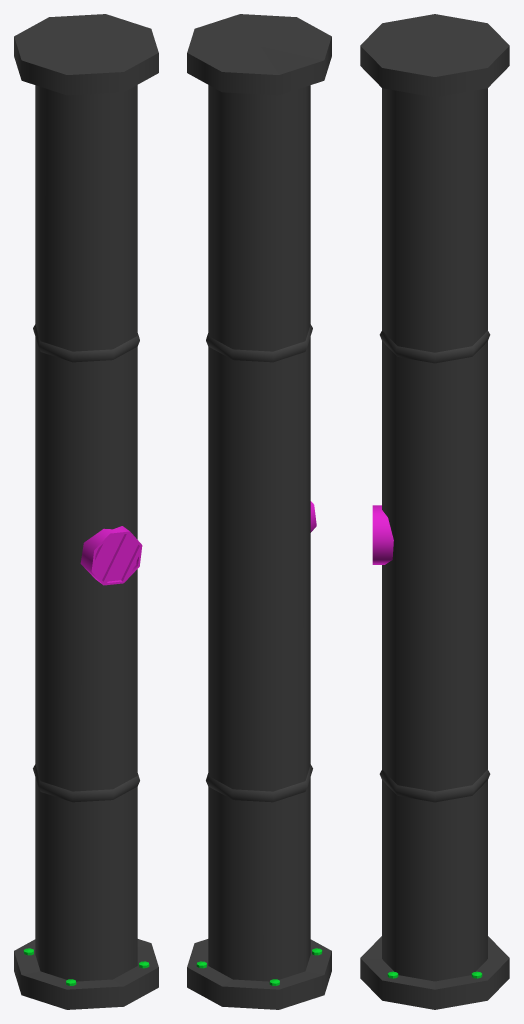
The model's file is SM_ENV_PIPE_STRAIGHT_02.FBX.
3 views of the same model, side by side, from view 1: azimuth 30°, elevation 25°; view 2: azimuth 150°, elevation 25°; view 3: azimuth 270°, elevation 25° (orthographic).
Parts seen in each view (by area): view 1: pipe_straight_02; view 2: pipe_straight_02; view 3: pipe_straight_02.
Part boxes in pixels (x1=…): pipe_straight_02: x1=14, y1=14, x2=158, y2=1009; pipe_straight_02: x1=187, y1=14, x2=331, y2=1009; pipe_straight_02: x1=360, y1=14, x2=509, y2=1009.
Size of the model in its own units: 50.83 by 349 by 50.71.
